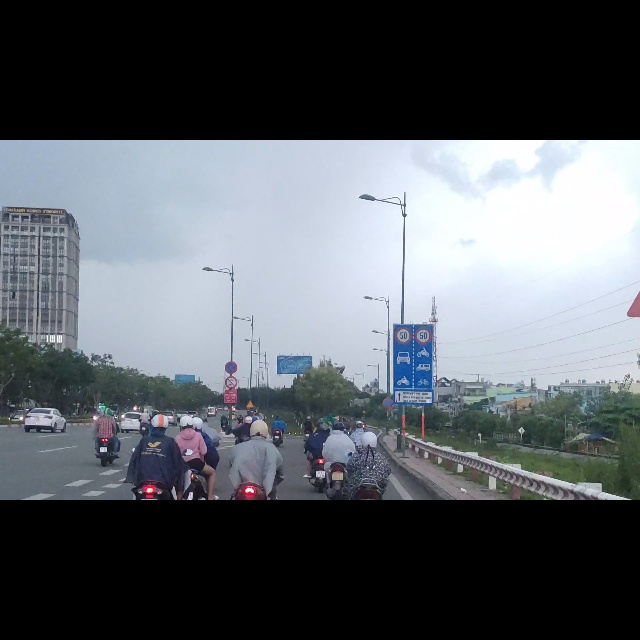bien_chi_dan: (394, 331, 412, 363), (415, 331, 432, 363), (224, 391, 238, 417), (225, 420, 238, 443), (382, 457, 393, 478), (246, 462, 255, 476)
